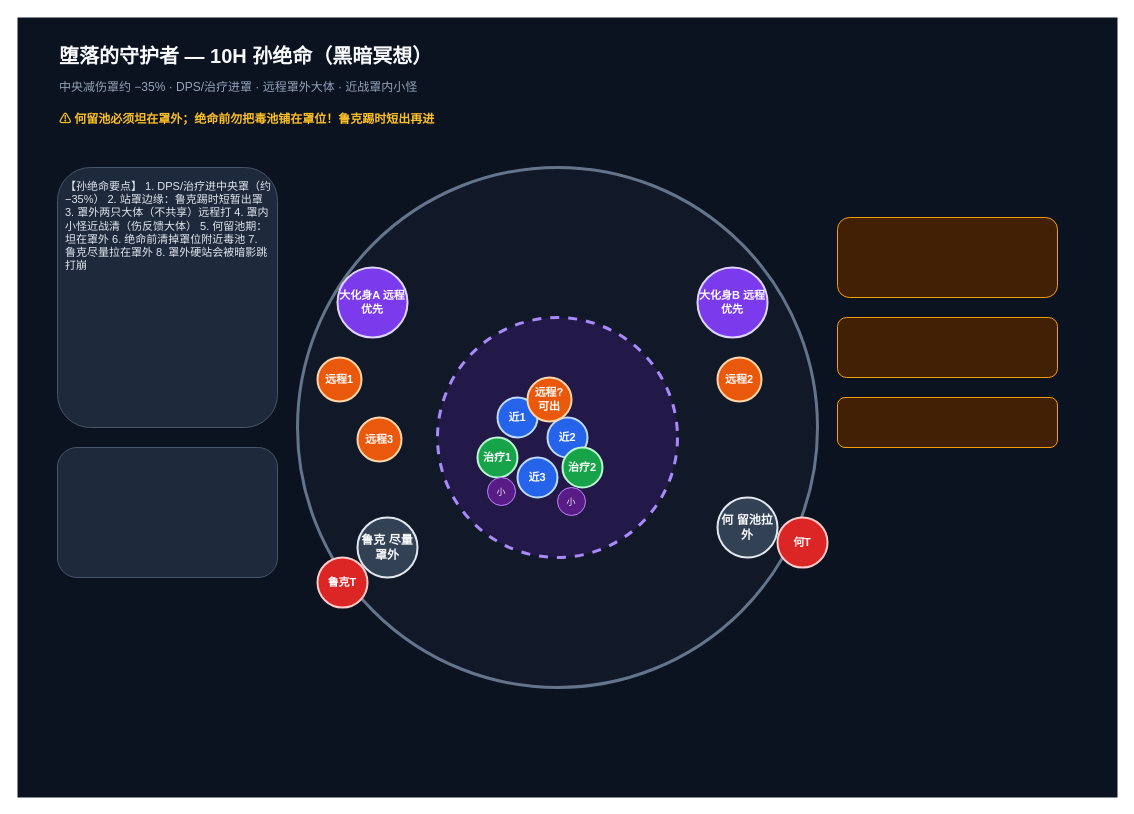
Some shapes in this 1134 by 814 pixel diagram are drawn without their labels. Each missing label, with the box of its shape:
【图例】 紫虚线圆 = 冥想罩 紫大圆 = 大化身 紫小圆 = 罩内小怪 红 = 坦（罩外）: (56, 446, 278, 578)
冥想力场 −35% 受伤 站边缘: (436, 316, 678, 558)
毒池禁铺罩位！: (836, 396, 1058, 448)
罩内小怪伤 反馈到大化身: (836, 316, 1058, 378)
鲁克腐化踢 → 短出罩再进 勿封死罩: (836, 216, 1058, 298)
